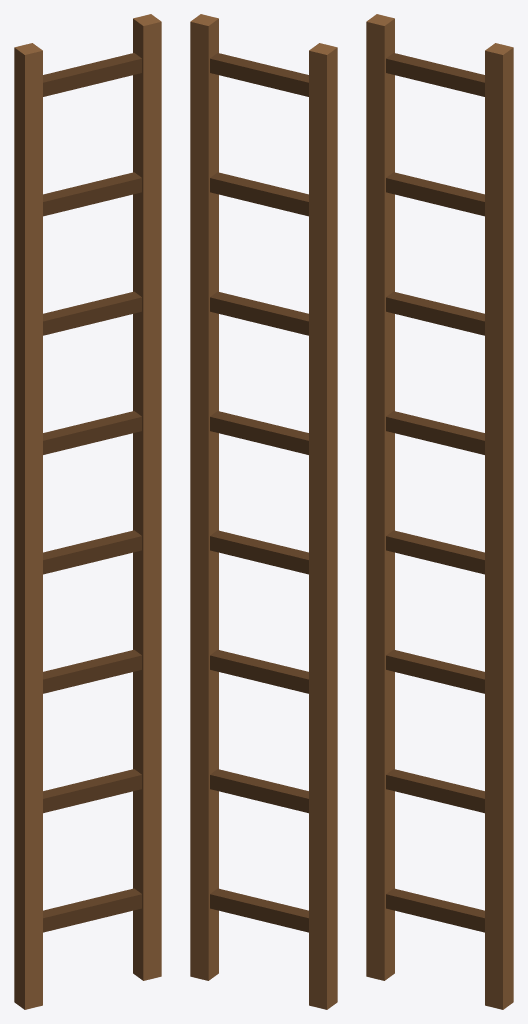
The model's file is wall_ladder.glb.
The picture shows the model from 3 angles, left to right: view 1: azimuth 30°, elevation 25°; view 2: azimuth 150°, elevation 25°; view 3: azimuth 330°, elevation 25°; orthographic projection.
Visible parts, largest first — view 1: wall_ladder; view 2: wall_ladder; view 3: wall_ladder.
Boxes of the visible parts, x1,y1,x2,y2 form: wall_ladder: [14, 14, 161, 1009]; wall_ladder: [190, 14, 337, 1009]; wall_ladder: [366, 14, 513, 1009].
Bounding box in the file's own units: 0.3 × 2 × 0.04.
Materials: 1 (1 with a texture image).
